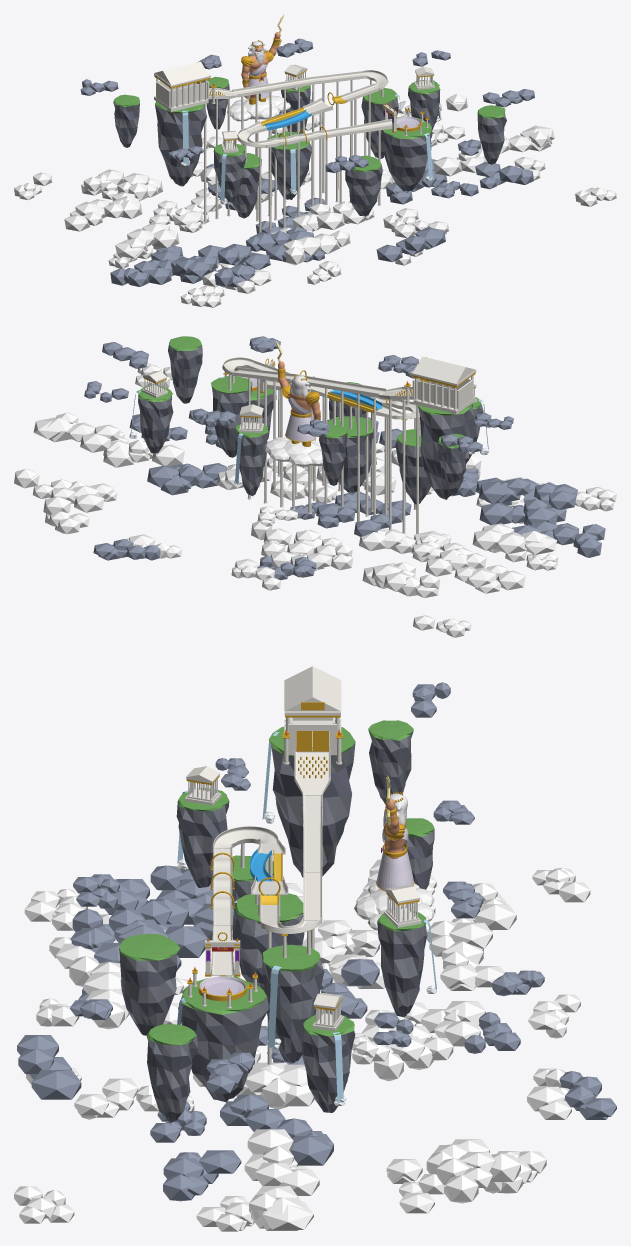
The model's file is zeus.glb.
3 renders of one model, top to bottom at view 1: azimuth 30°, elevation 25°; view 2: azimuth 150°, elevation 25°; view 3: azimuth 270°, elevation 25°, orthographic. The views are drawn at different scales.
Visible parts, largest first — view 1: D_clouds, D_olympus, ZEUS_body, R_T02_bridge, R_T10_waves, R_T11_final; view 2: D_clouds, D_olympus, ZEUS_body, R_T02_bridge, R_T03_hammers; view 3: D_clouds, D_olympus, ZEUS_body, R_T02_bridge, R_T10_waves, R_T01_ramp, R_T09_hairpin, R_T03_hammers, F_finish, R_T11_final.
Boxes of the visible parts, <box> form: D_clouds: <box>14,38,616,307</box>; D_olympus: <box>113,61,506,232</box>; ZEUS_body: <box>227,40,290,121</box>; R_T02_bridge: <box>232,76,319,97</box>; R_T10_waves: <box>260,127,346,147</box>; R_T11_final: <box>342,119,398,134</box>; D_clouds: <box>14,336,616,637</box>; D_olympus: <box>129,336,489,533</box>; ZEUS_body: <box>264,375,323,466</box>; R_T02_bridge: <box>286,373,386,397</box>; R_T03_hammers: <box>232,367,292,380</box>; D_clouds: <box>14,682,616,1231</box>; D_olympus: <box>119,666,436,1122</box>; ZEUS_body: <box>354,792,434,930</box>; R_T02_bridge: <box>302,790,322,872</box>; R_T10_waves: <box>213,844,232,925</box>; R_T01_ramp: <box>294,750,330,795</box>; R_T09_hairpin: <box>213,826,278,848</box>; R_T03_hammers: <box>303,868,322,920</box>; F_finish: <box>198,976,246,1001</box>; R_T11_final: <box>211,921,234,975</box>.
Size of the model in its own units: 460 by 171 by 308.
